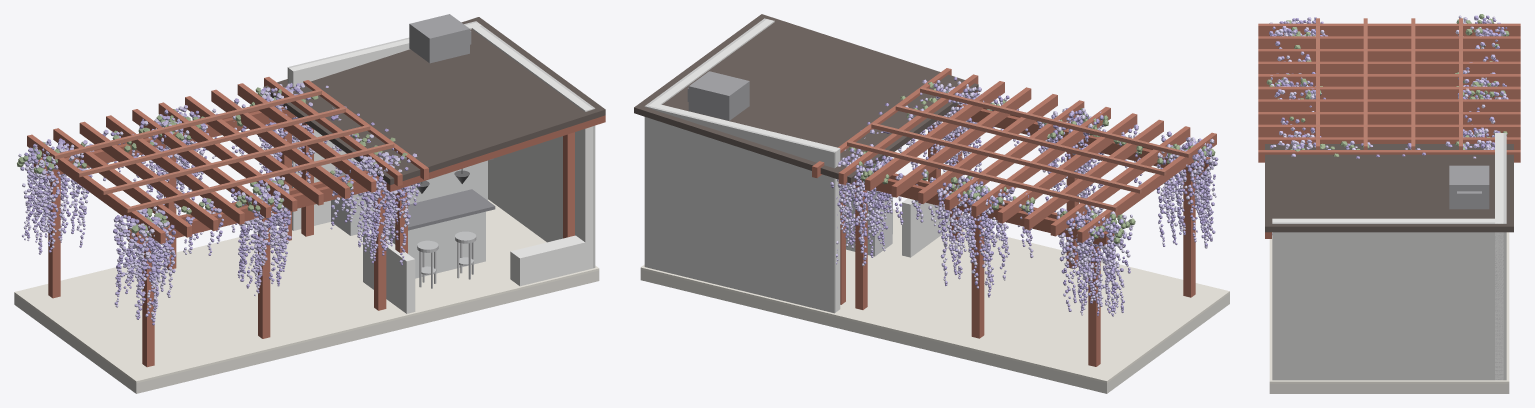
Rendered from espaco-gourmet-pergolado.original.glb.
3 renders of one model, left to right at view 1: azimuth 30°, elevation 25°; view 2: azimuth 150°, elevation 25°; view 3: azimuth 270°, elevation 25°, orthographic. The views are drawn at different scales.
Parts seen in each view (by area): view 1: piso, cobertura, caibros, paredes, pilares, ripas, laje, glicinia_0, glicinia_2, glicinia_3, glicinia_1, armarios (+7 smaller); view 2: piso, paredes_ext, cobertura, caibros, ripas, laje, pilares, glicinia_3, glicinia_0, glicinia_1, glicinia_2, paredes (+4 smaller); view 3: paredes_ext, caibros, cobertura, paredes, laje, ripas, piso, chamine, folhagem, glicinia_3, glicinia_2, glicinia_0 (+1 smaller).
Part boxes in pixels (x1,y1,x2,y2): piso: (14, 199, 599, 383); cobertura: (263, 17, 605, 184); caibros: (27, 77, 428, 243); paredes: (289, 22, 592, 313); pilares: (48, 118, 574, 367); ripas: (53, 89, 394, 212); laje: (14, 270, 599, 393); glicinia_0: (22, 82, 418, 319); glicinia_2: (18, 83, 417, 318); glicinia_3: (24, 83, 419, 325); glicinia_1: (20, 83, 420, 321); armarios: (331, 160, 487, 278); piso: (640, 209, 1229, 383); paredes_ext: (644, 18, 835, 313); cobertura: (634, 14, 978, 183); caibros: (812, 68, 1216, 242); ripas: (847, 87, 1190, 211); laje: (640, 269, 1229, 393); pilares: (840, 121, 1195, 366); glicinia_3: (831, 83, 1215, 316); glicinia_0: (830, 79, 1217, 316); glicinia_1: (837, 77, 1218, 311); glicinia_2: (835, 81, 1216, 315); paredes: (649, 19, 949, 311); paredes_ext: (1272, 133, 1506, 380); caibros: (1258, 23, 1520, 162); cobertura: (1265, 144, 1513, 232); paredes: (1272, 133, 1503, 380); laje: (1269, 383, 1509, 393); ripas: (1316, 18, 1462, 149); piso: (1269, 232, 1509, 383); chamine: (1449, 165, 1489, 209); folhagem: (1266, 14, 1509, 156); glicinia_3: (1269, 15, 1507, 158); glicinia_2: (1269, 15, 1506, 153); glicinia_0: (1270, 17, 1508, 158).
Bounding box in the file's own units: 9.38 × 3.69 × 4.6.
